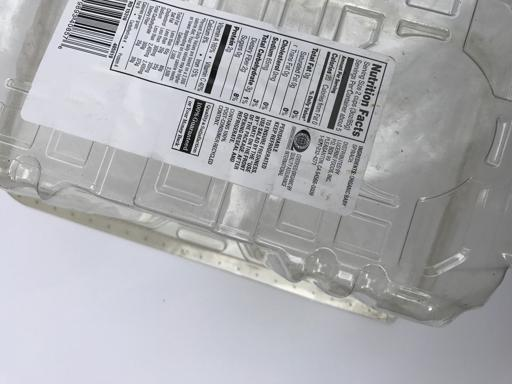bottle: (0, 154, 512, 192)
